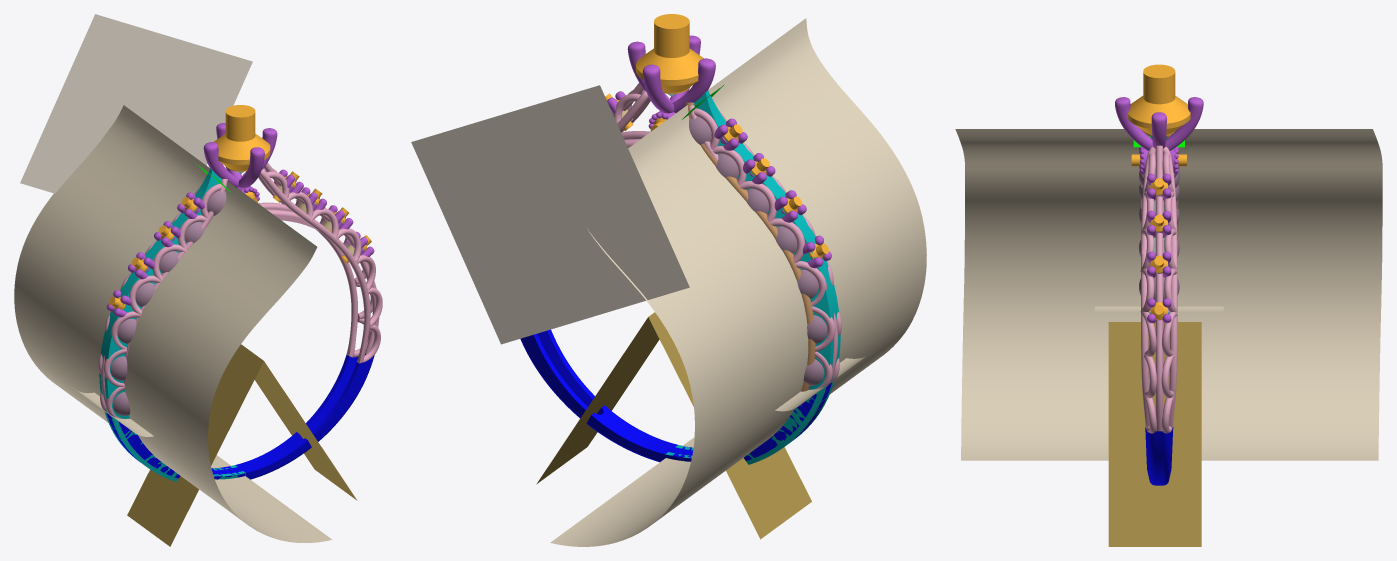
The picture shows the model from 3 angles, left to right: view 1: azimuth 30°, elevation 25°; view 2: azimuth 150°, elevation 25°; view 3: azimuth 270°, elevation 25°; orthographic projection. The views are drawn at different scales.
Parts seen in each view (by area): view 1: AN sD2086.3dm, GemCutter; view 2: AN sD2086.3dm, GemCutter; view 3: AN sD2086.3dm, GemCutter.
Part boxes in pixels (x1,y1,x2,y2): AN sD2086.3dm: (14, 14, 382, 546); GemCutter: (214, 105, 270, 171); AN sD2086.3dm: (411, 18, 926, 546); GemCutter: (636, 14, 703, 93); AN sD2086.3dm: (955, 97, 1382, 546); GemCutter: (1127, 64, 1190, 135).
Bounding box in the file's own units: 2.56 × 3.75 × 3.15.
